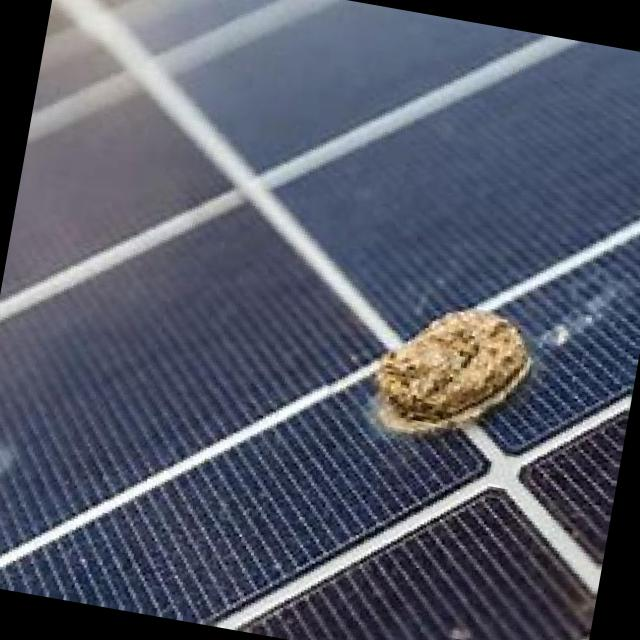faulty: (327, 213, 640, 500)
